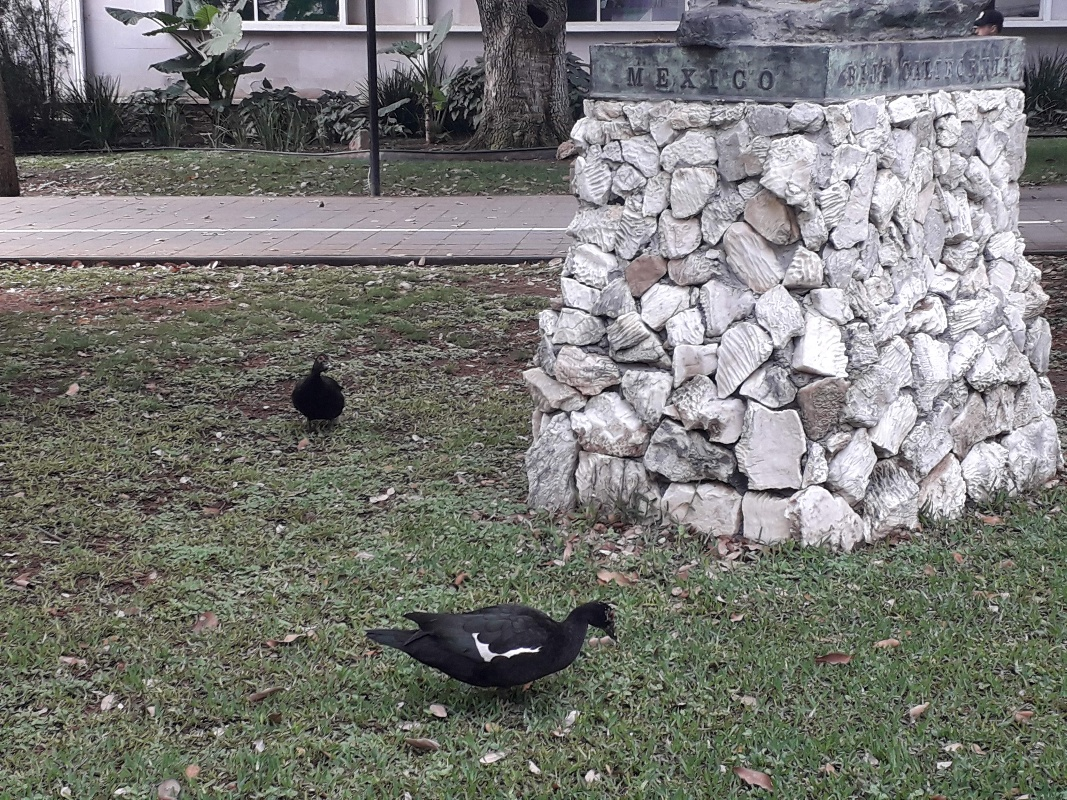pato: (385, 598, 620, 691), (291, 350, 345, 443)
